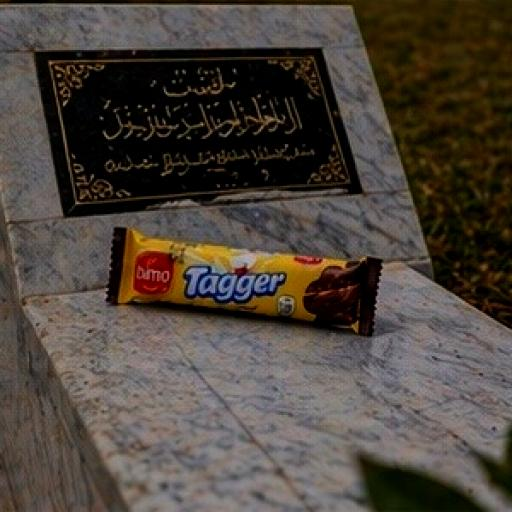tagger: (77, 166, 398, 393)
